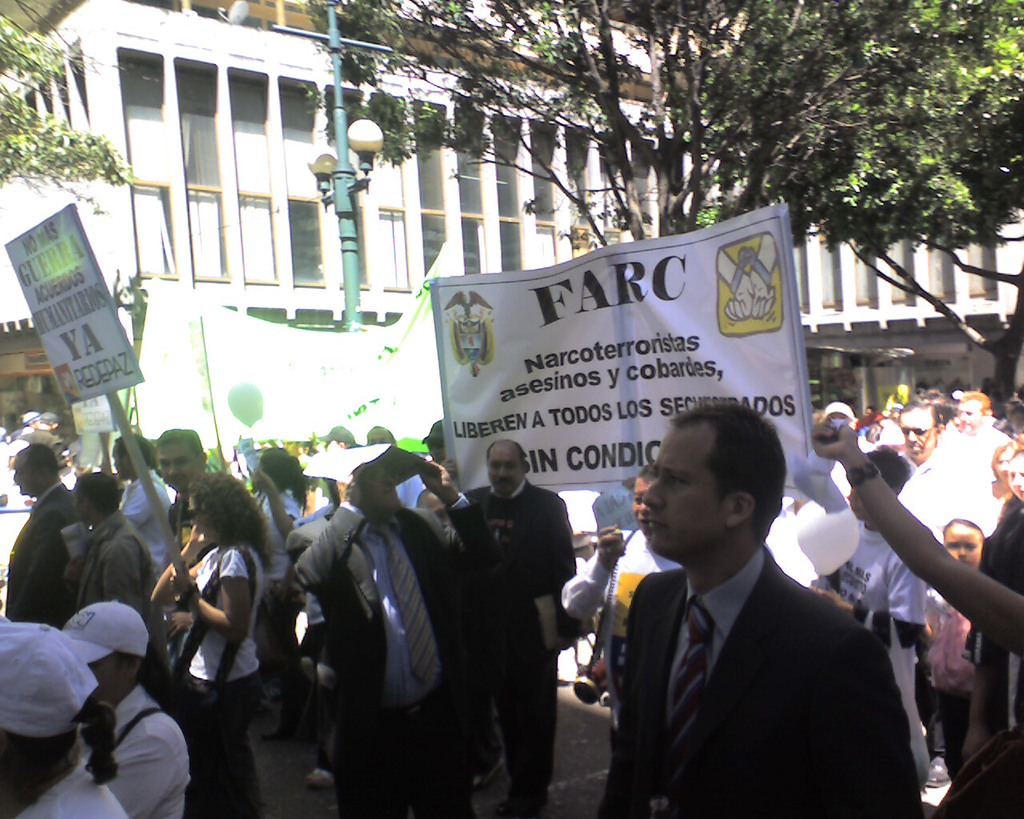Human_hand: (811, 416, 858, 461), (334, 441, 364, 505), (168, 557, 199, 603), (597, 524, 628, 568), (419, 460, 454, 495), (962, 733, 994, 762), (164, 610, 192, 643), (188, 522, 214, 551), (62, 553, 86, 583)
